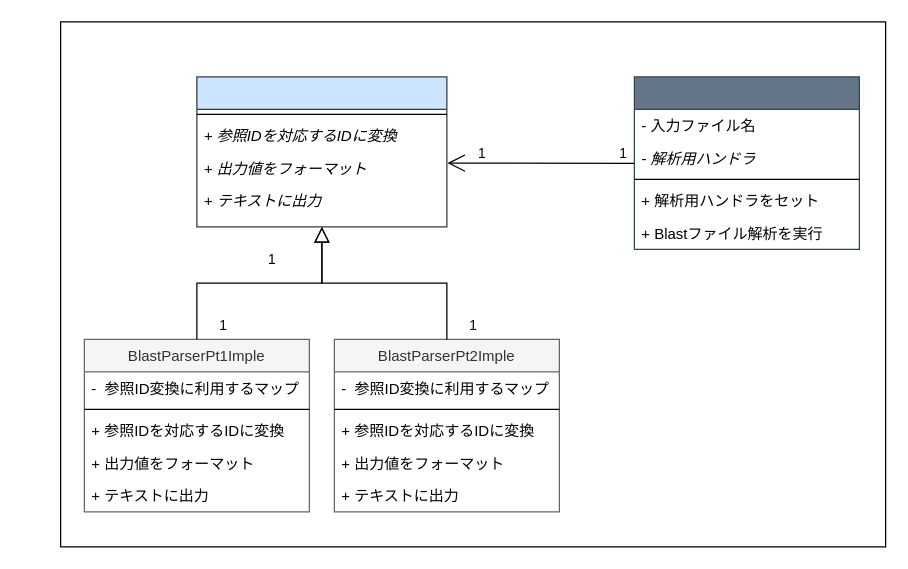
Some shapes in this 908 by 569 pixel diagram are drawn without their labels. Each missing label, with the box of its shape:
BlastParser: (633, 76, 859, 249)
IBlastParser: (196, 76, 447, 227)
